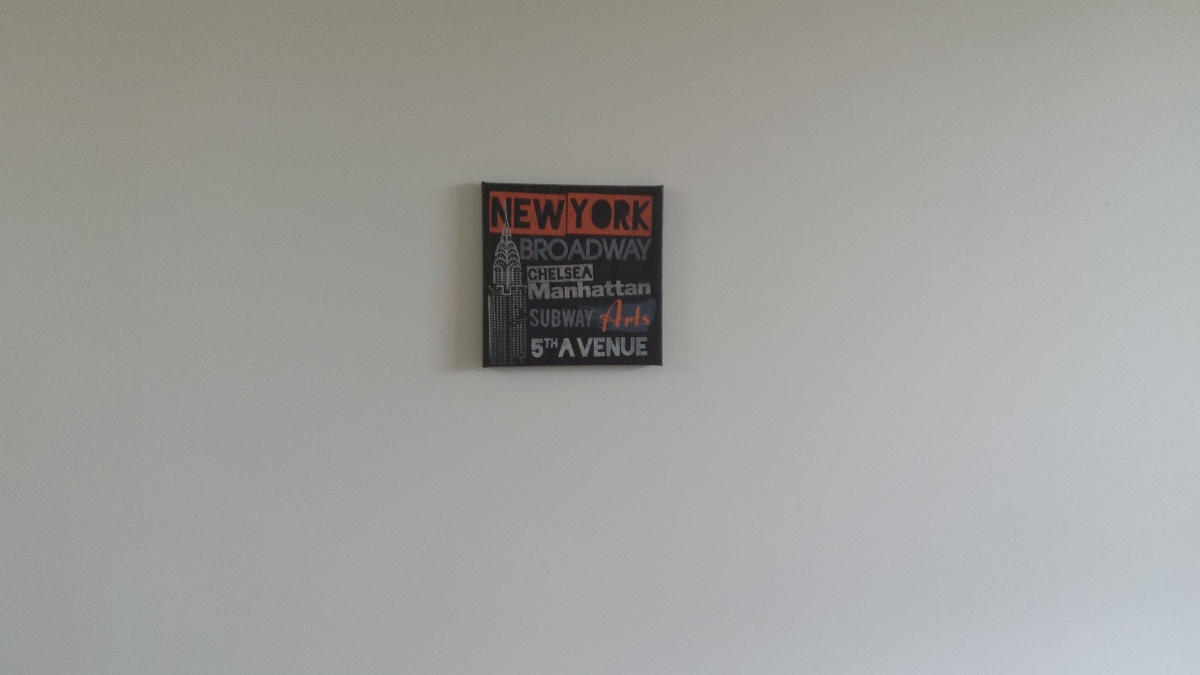poster: (479, 177, 664, 371)
